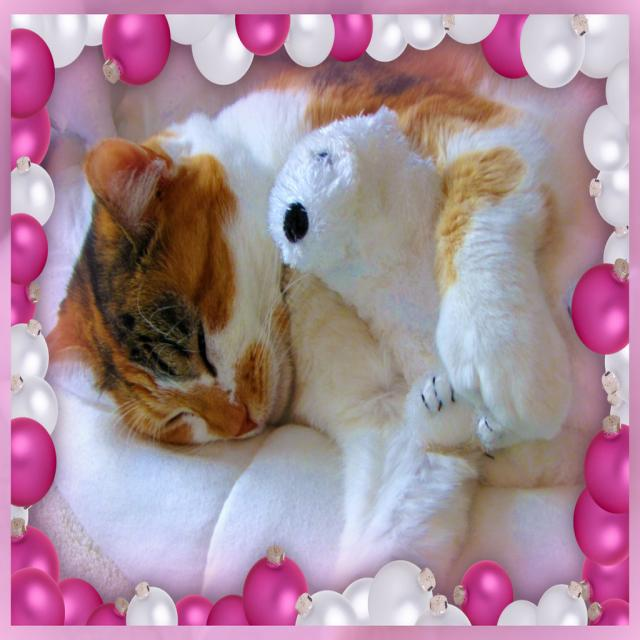Cat: (43, 50, 599, 584)
